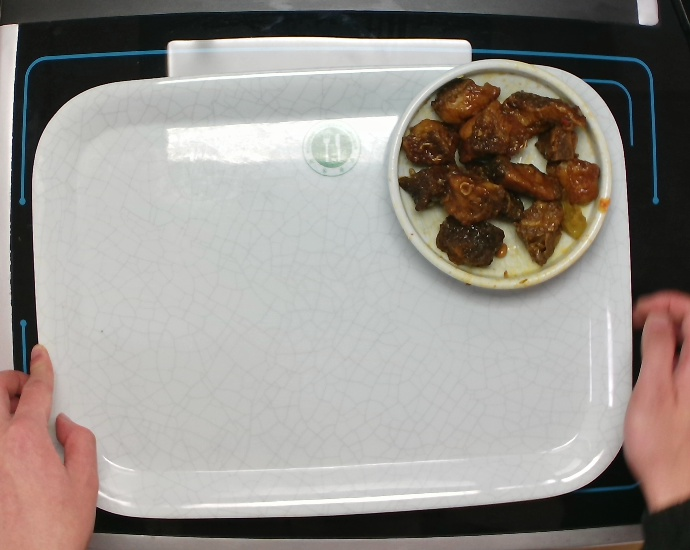JYsf-Xiao_Yuan_Pan: (375, 50, 625, 292)
